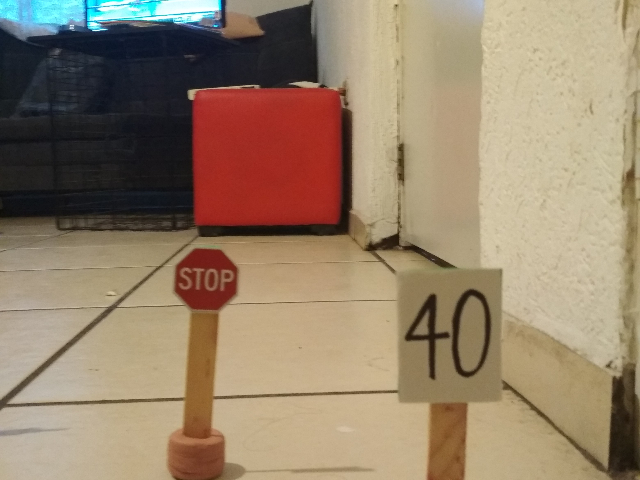Limit 40: (392, 262, 506, 407)
Stop: (167, 241, 241, 317)
